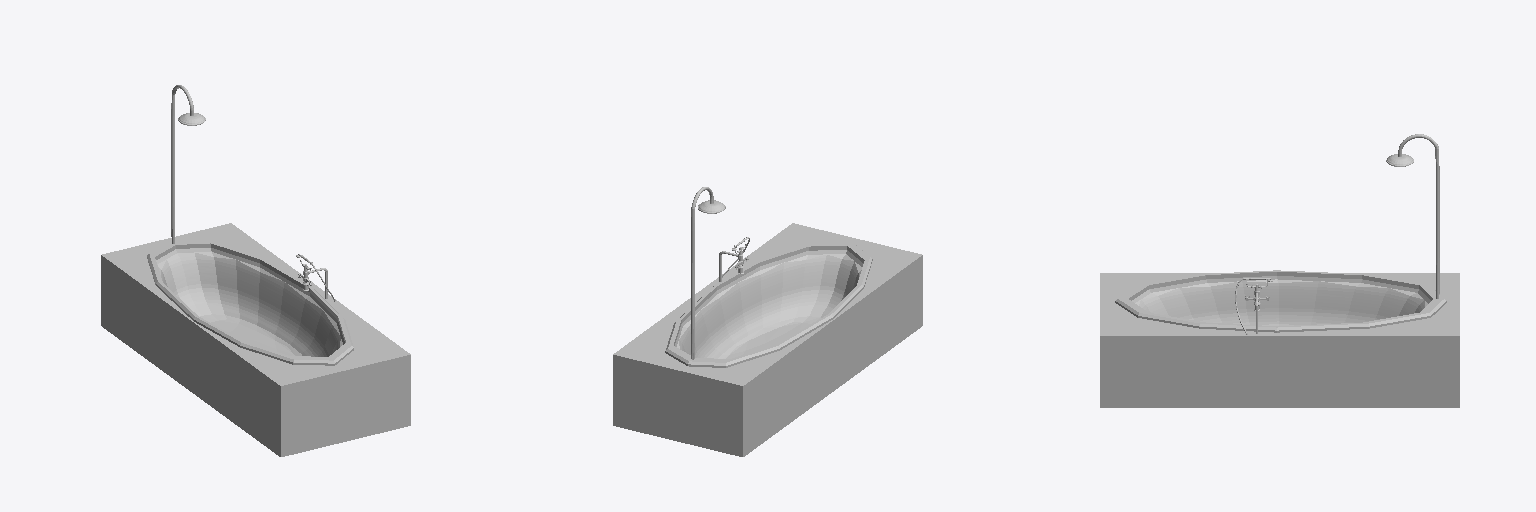
Rendered from Banheira_com_Chuveiro.obj.
3 views of the same model, side by side, from view 1: azimuth 30°, elevation 25°; view 2: azimuth 150°, elevation 25°; view 3: azimuth 270°, elevation 25° (orthographic).
Visible parts, largest first — view 1: Banheira_com_chuveiro; view 2: Banheira_com_chuveiro; view 3: Banheira_com_chuveiro.
Part boxes in pixels (x1,y1,x2,y2): Banheira_com_chuveiro: (101,85,410,456); Banheira_com_chuveiro: (613,187,922,456); Banheira_com_chuveiro: (1100,134,1459,407).
Bounding box in the file's own units: 2.56 × 4.51 × 6.12.